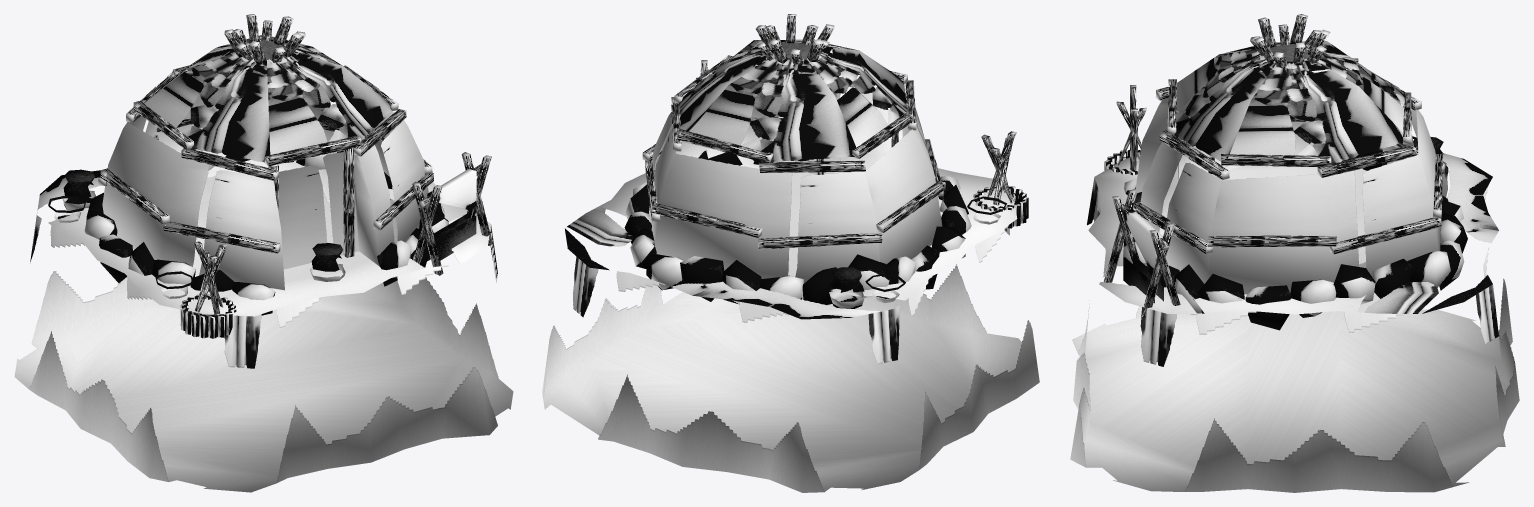
File: house_3.dae
3 renders of one model, left to right at view 1: azimuth 30°, elevation 25°; view 2: azimuth 150°, elevation 25°; view 3: azimuth 270°, elevation 25°, orthographic. The views are drawn at different scales.
Parts seen in each view (by area): view 1: house_3; view 2: house_3; view 3: house_3.
Part boxes in pixels (box(x1,y1,x2,y2)): house_3: box(14, 14, 513, 492); house_3: box(542, 14, 1039, 492); house_3: box(1070, 14, 1519, 492).
Size of the model in its own units: 14.52 by 14.98 by 13.55.
Materials: 1 (1 with a texture image).
